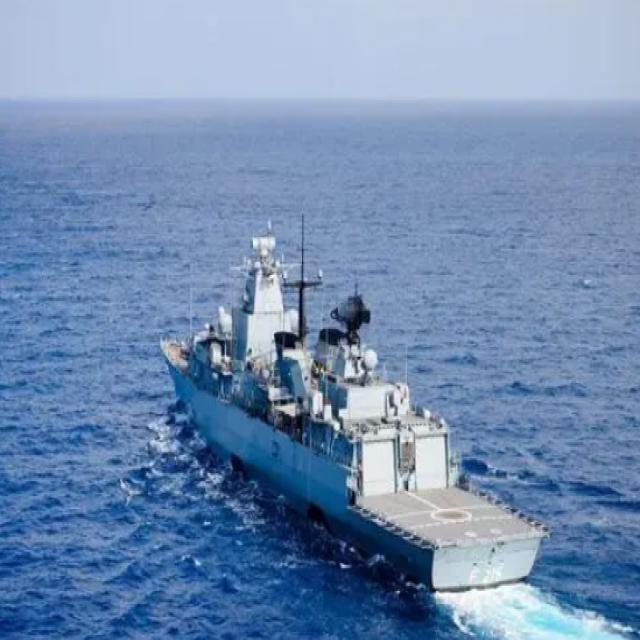navalvessels: (155, 209, 550, 597)
